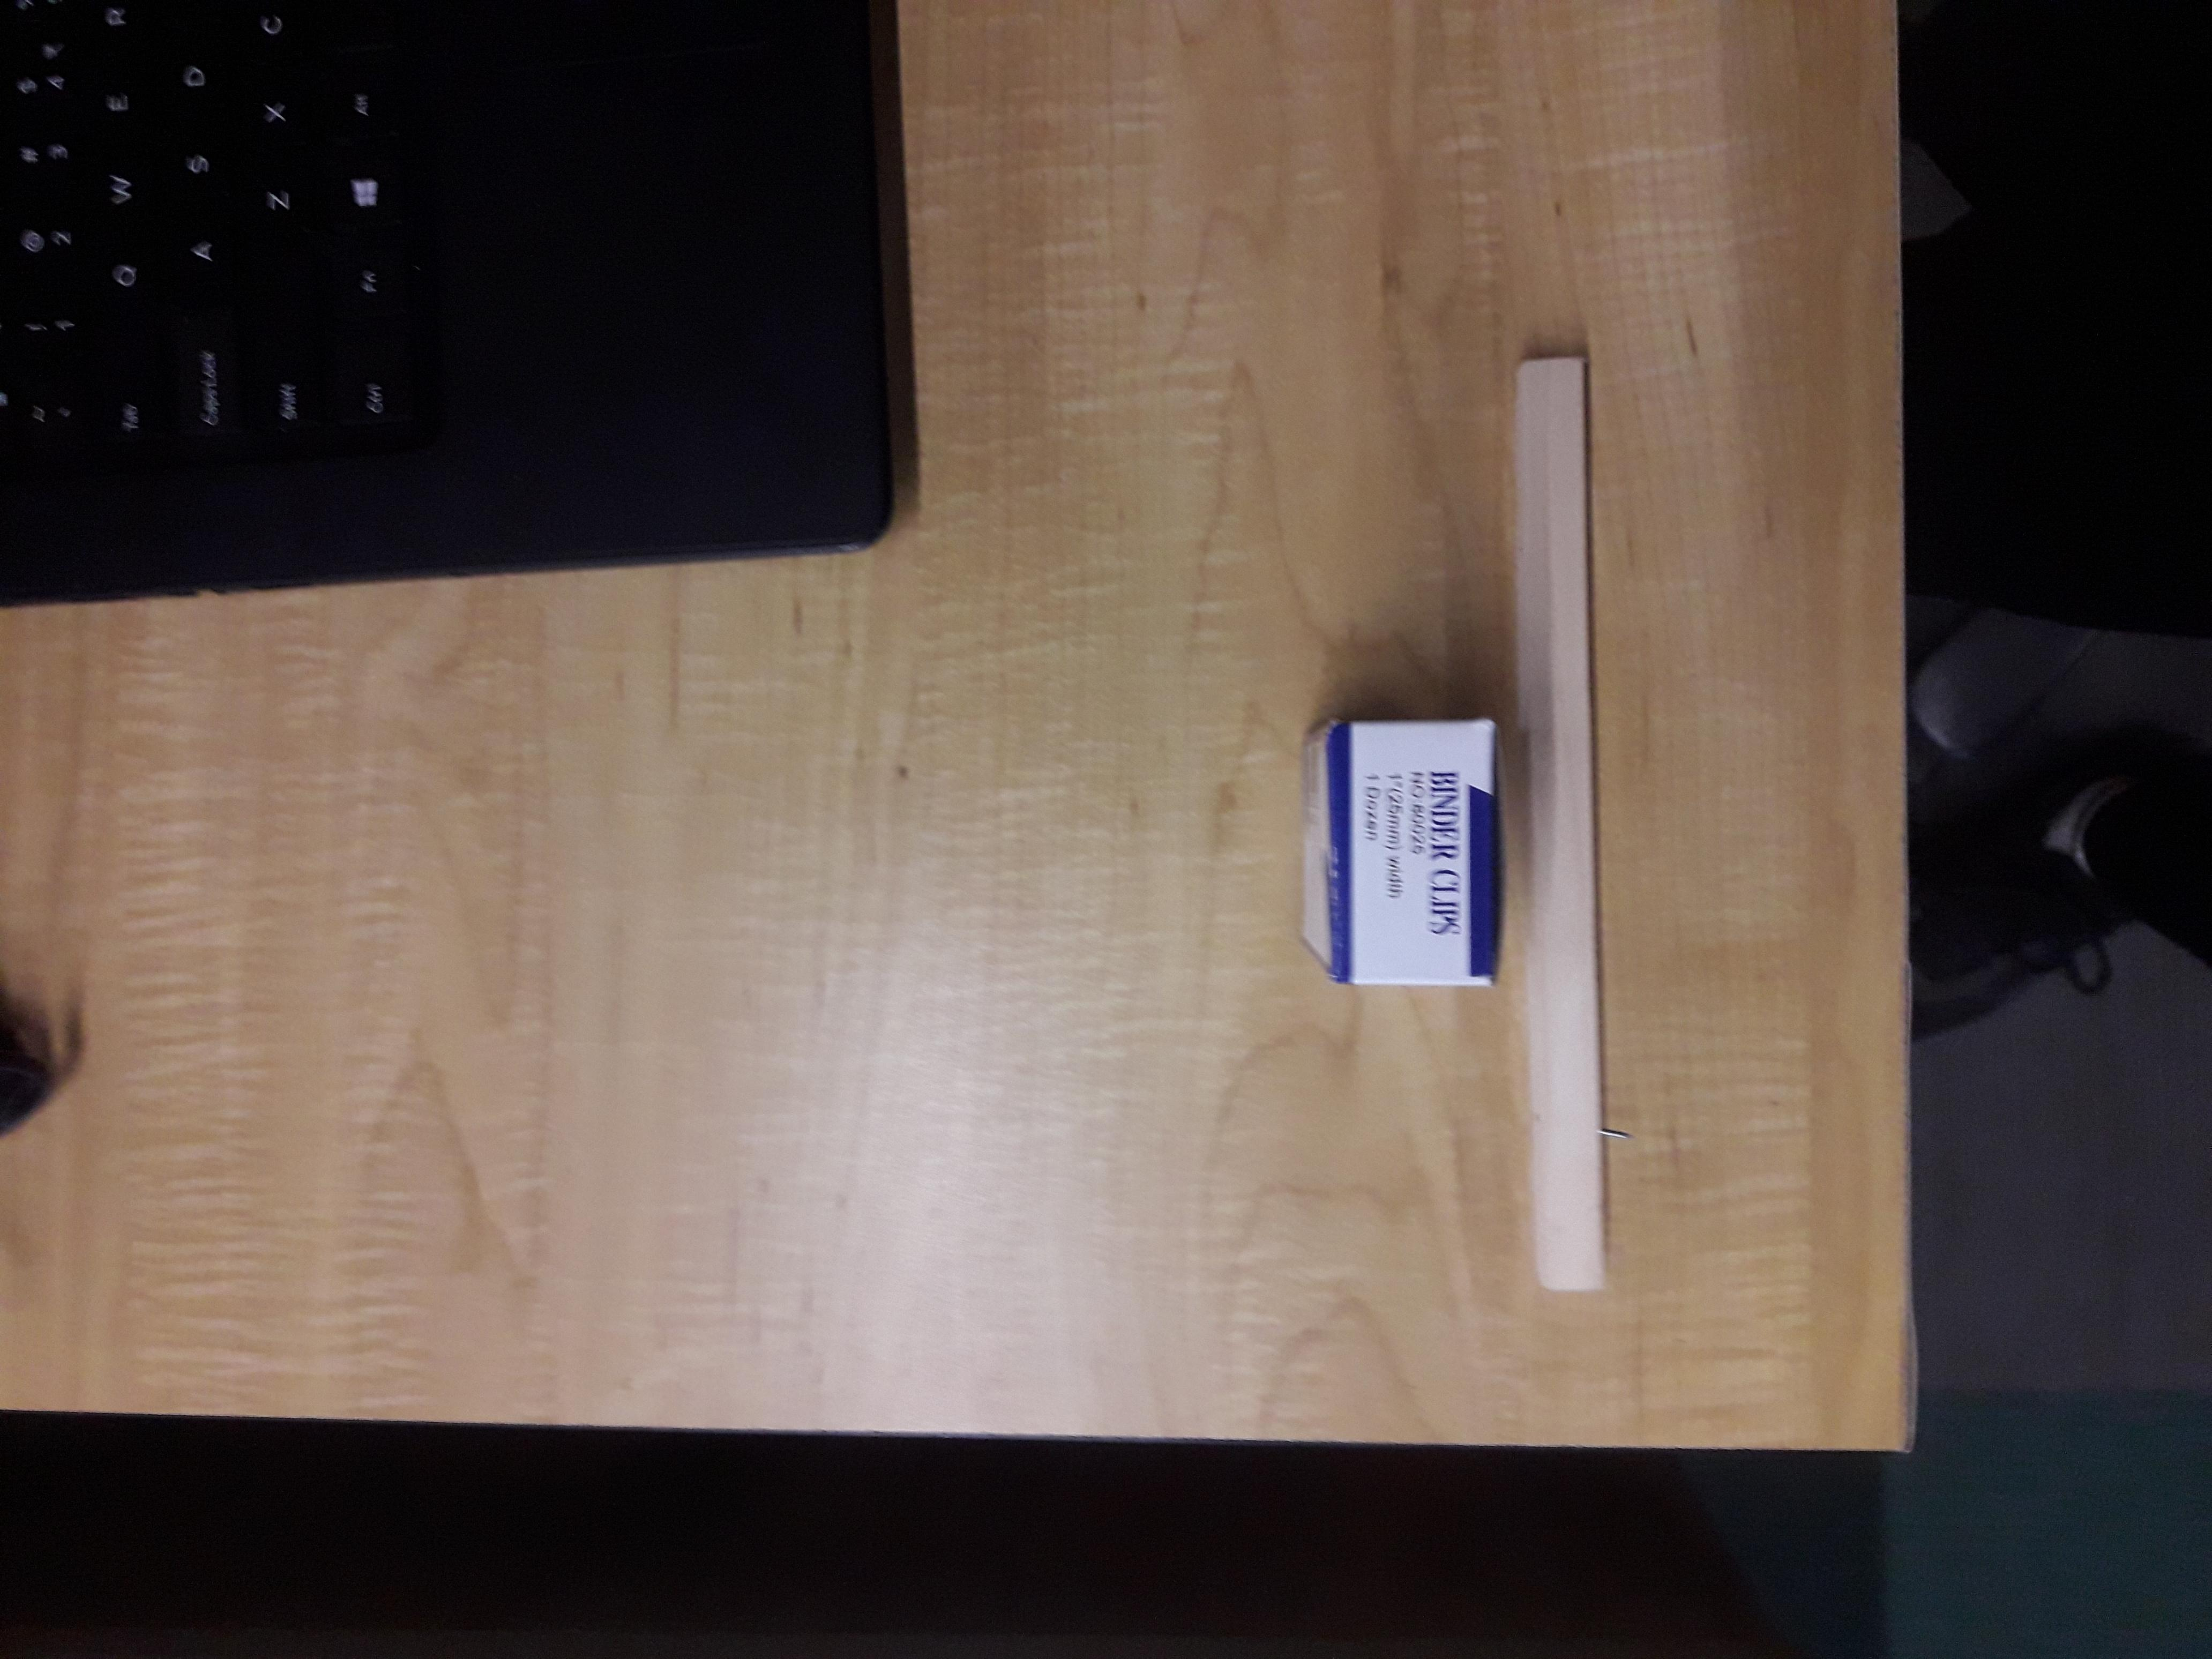object: (1334, 720, 1494, 985)
reference: (1527, 357, 1606, 1288)
